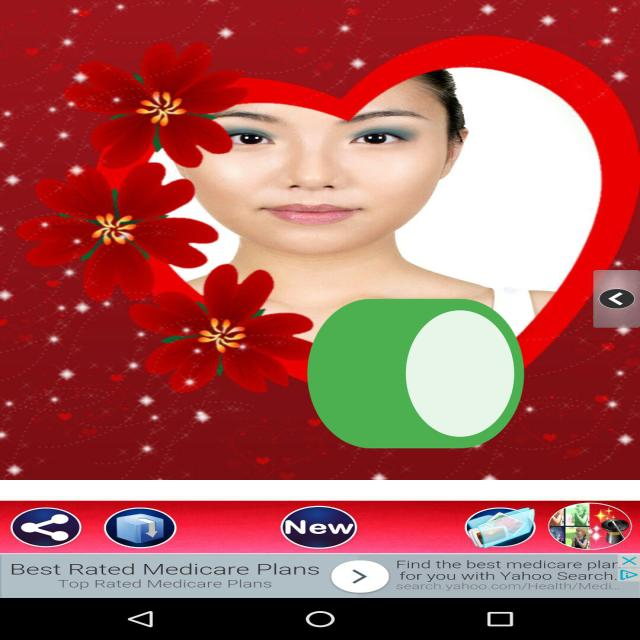social proof: (297, 242, 534, 518)
